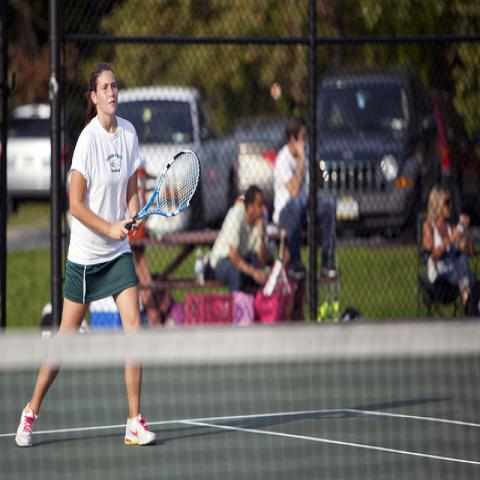car: (116, 84, 242, 235), (316, 75, 421, 228), (7, 103, 87, 214), (235, 114, 290, 208)
